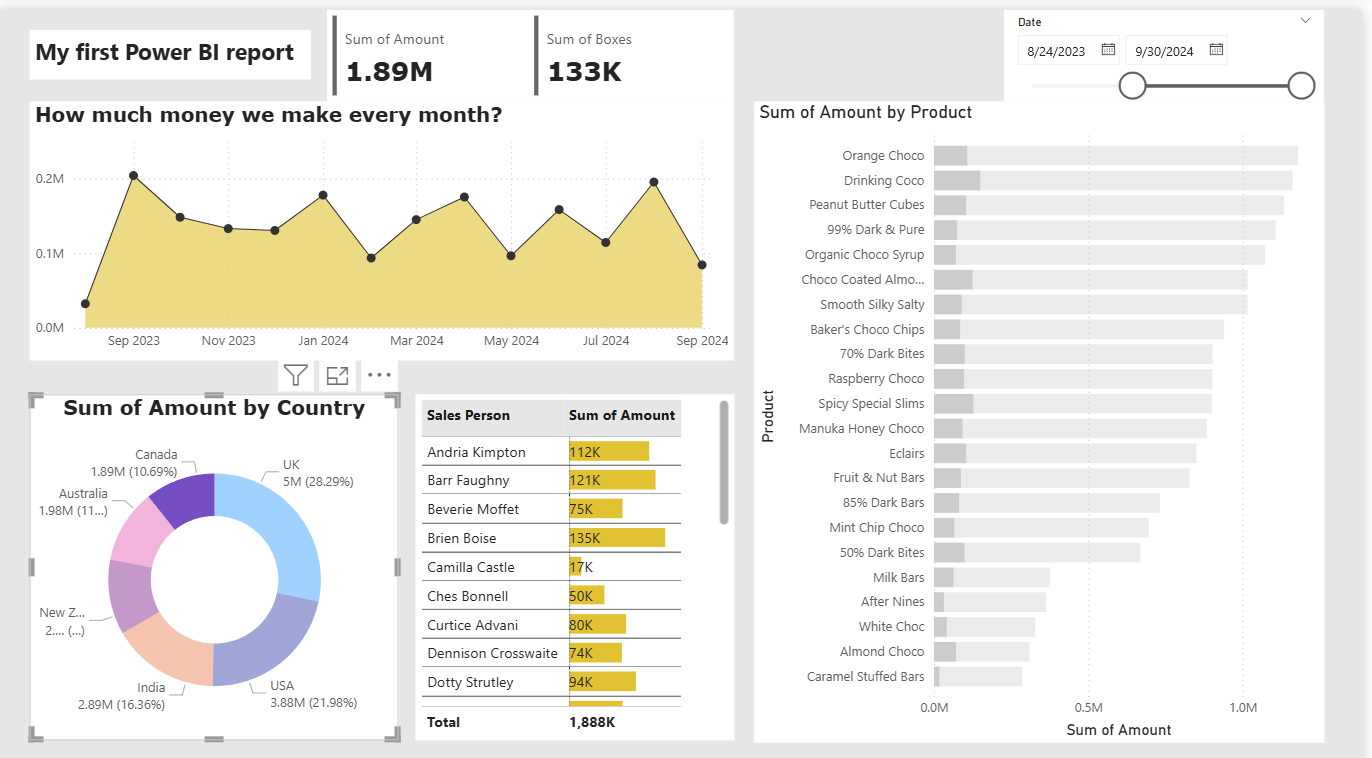

The dashboard page shown, as its layout file describes it:
{"tool":"powerbi","page":{"name":"My First Report","canvas":[1280,720],"ordinal":1},"visuals":[{"type":"lineChart","title":"How much money we make every month?","fields":{"Category":["data.Date.Variation.Date Hierarchy.Year","data.Date.Variation.Date Hierarchy.Quarter","data.Date.Variation.Date Hierarchy.Month","data.Date.Variation.Date Hierarchy.Day"],"Y":["Sum(data.Amount)"]},"box":[31.4,86,659.7,242.8],"z":0},{"type":"donutChart","fields":{"Category":["data.Country"],"Y":["Sum(data.Amount)"]},"box":[31.4,360.1,346.1,324.1],"z":1000},{"type":"tableEx","fields":{"Values":["data.Sales Person","Sum(data.Amount)"]},"box":[392.6,360.1,298.5,324.1],"z":2000},{"type":"clusteredBarChart","fields":{"Category":["data.Product"],"Y":["Sum(data.Amount)"]},"box":[709.7,86,534.3,600.5],"z":3000},{"type":"cardVisual","fields":{"Data":["Sum(data.Amount)","Sum(data.Boxes)"]},"box":[310.1,0,381,86],"z":4000},{"type":"slicer","fields":{"Values":["data.Date"]},"box":[944.3,0,299.7,86],"z":5000},{"type":"textbox","box":[31.4,18.6,263.7,46.5],"z":6000}]}

Visuals, with their boxes in screenshot pixels (x1, y1, x2, y2), scaled from the page's 1280x720 canvas onto the 1372x758 screenshot:
"How much money we make every month?" lineChart: x1=34, y1=91, x2=741, y2=346
donutChart - data.Country x Sum(data.Amount): x1=34, y1=379, x2=405, y2=720
tableEx - data.Sales Person x Sum(data.Amount): x1=421, y1=379, x2=741, y2=720
clusteredBarChart - data.Product x Sum(data.Amount): x1=761, y1=91, x2=1333, y2=723
cardVisual - Sum(data.Amount) x Sum(data.Boxes): x1=332, y1=0, x2=741, y2=91
slicer - data.Date: x1=1012, y1=0, x2=1333, y2=91
textbox: x1=34, y1=20, x2=316, y2=69
